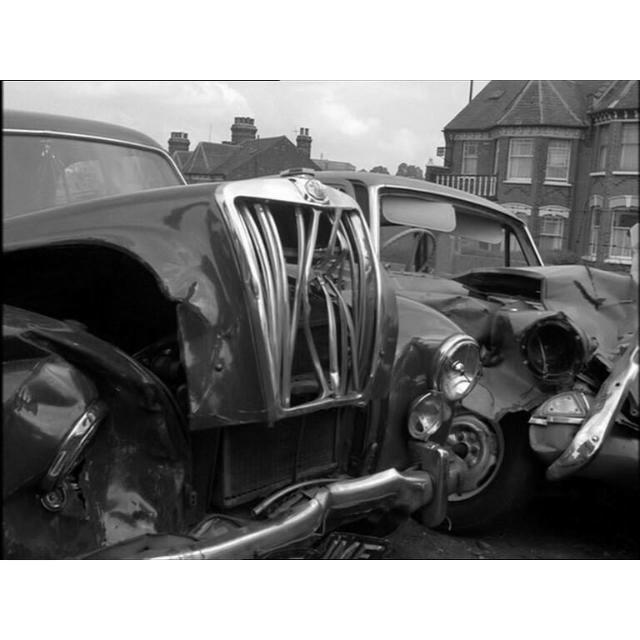Headlight-damage: (32, 366, 172, 481)
front-bumper-dent: (175, 448, 446, 548)
